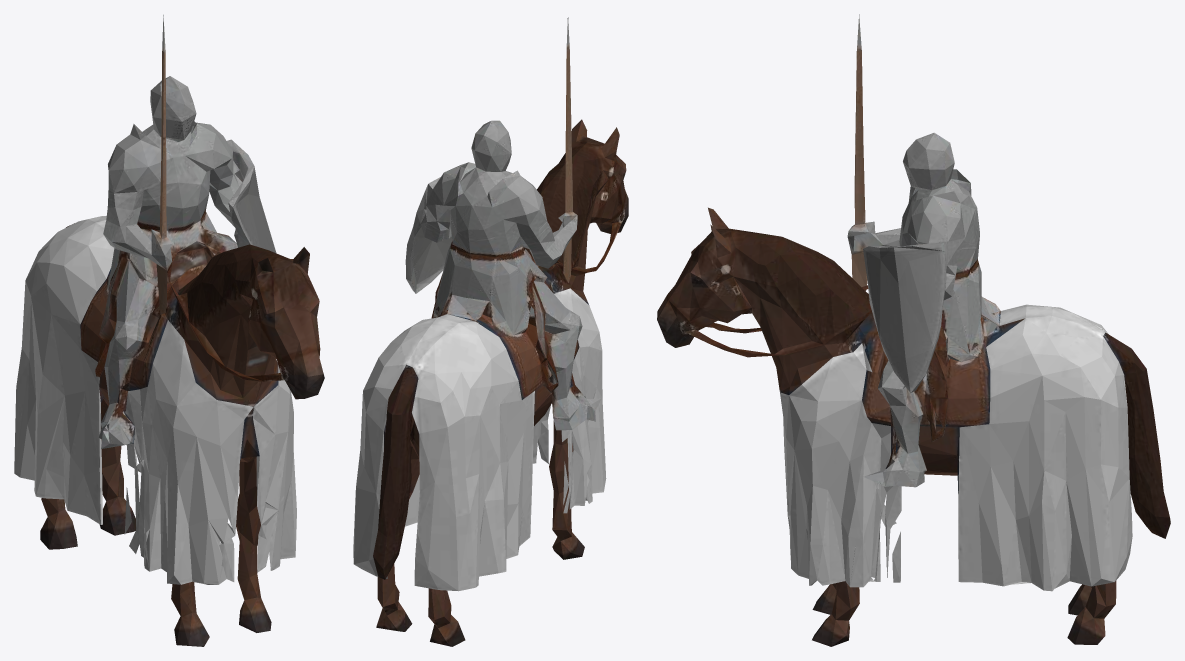
Rendered from knight.glb.
3 views of the same model, side by side, from view 1: azimuth 30°, elevation 25°; view 2: azimuth 150°, elevation 25°; view 3: azimuth 270°, elevation 25° (orthographic). The views are drawn at different scales.
Parts seen in each view (by area): view 1: knight; view 2: knight; view 3: knight.
Part boxes in pixels (x1,y1,x2,y2): knight: (14, 15, 324, 646); knight: (353, 17, 628, 646); knight: (657, 14, 1170, 646).
Size of the model in its own units: 0.9946 by 3.04 by 2.4.
2 materials, 2 textured.
